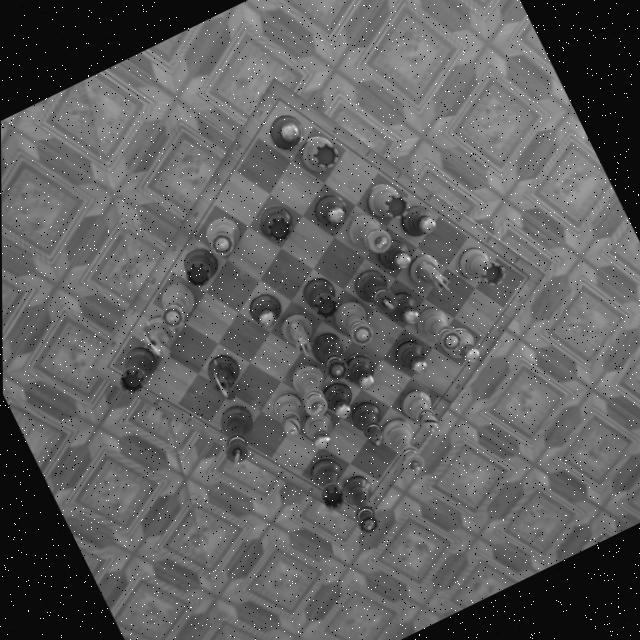chessboard: (113, 99, 529, 510)
